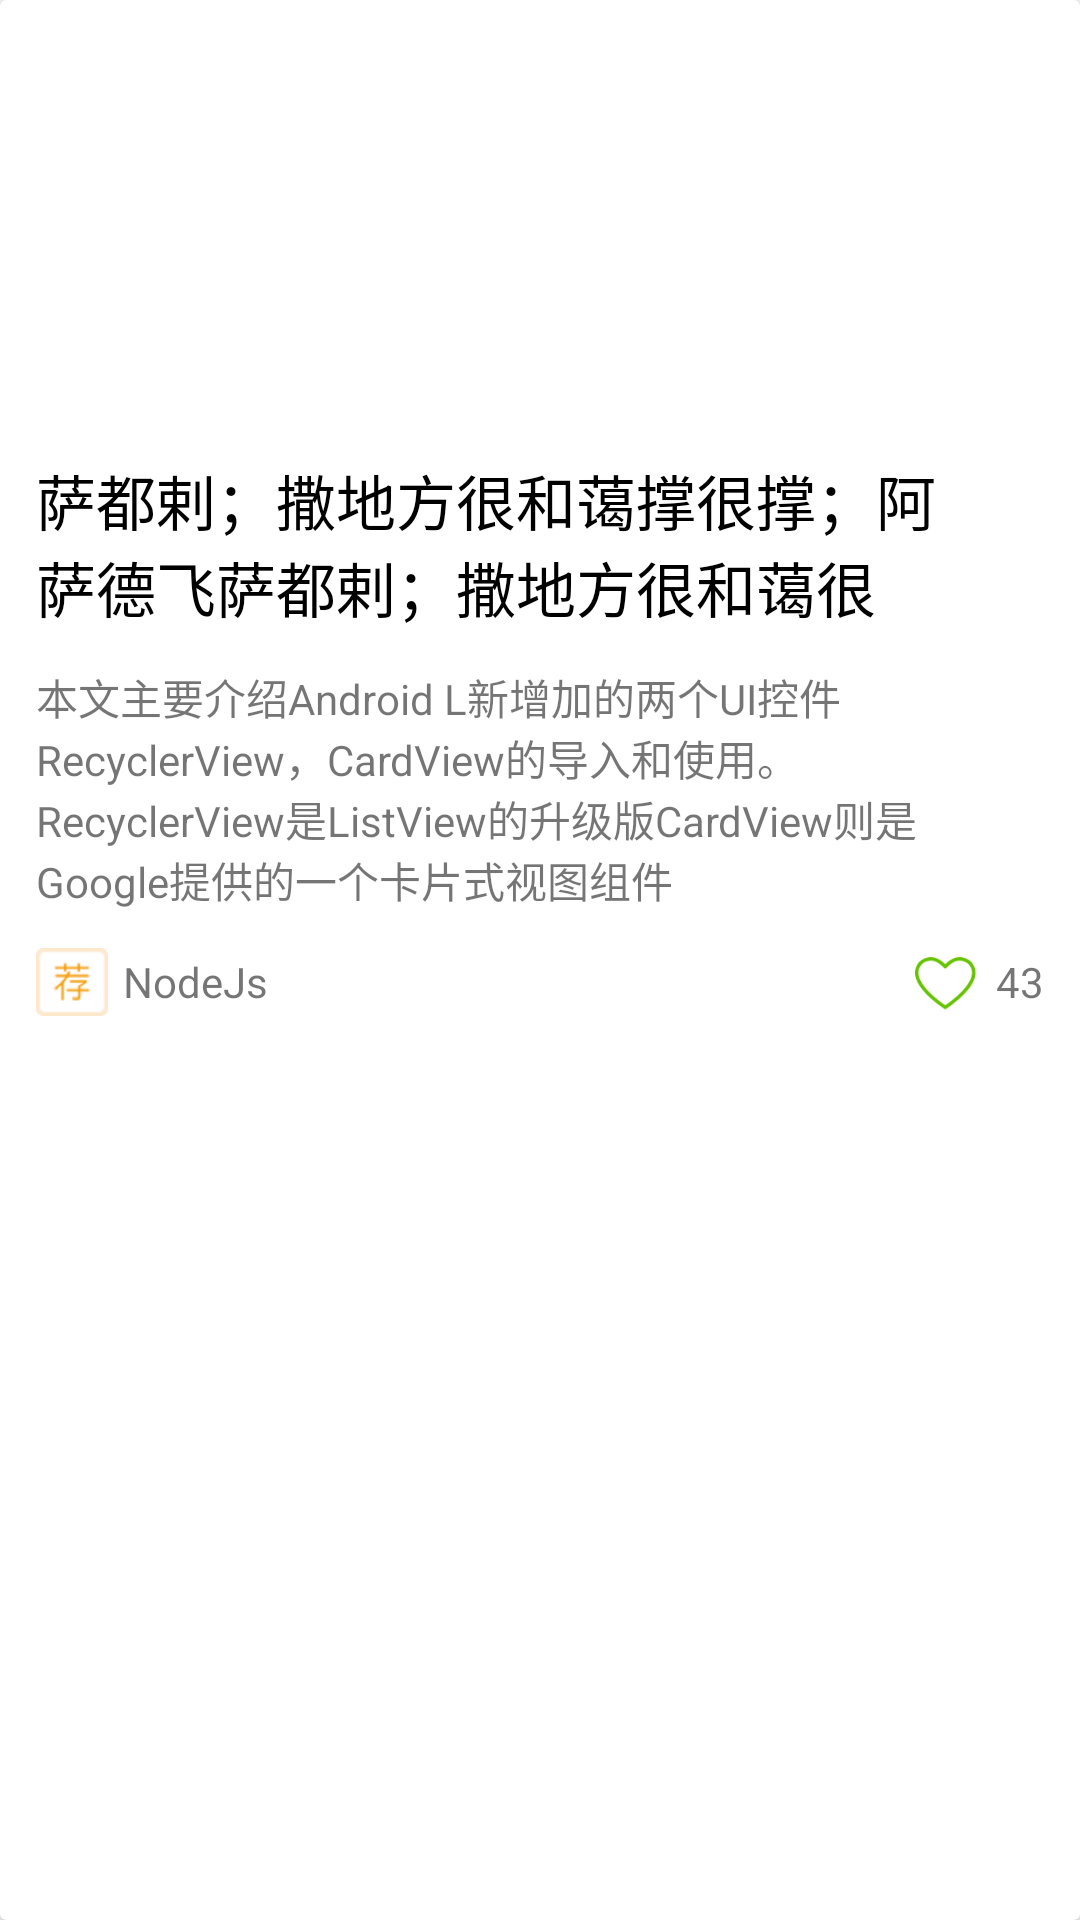

Named icons in this screenshot (1080px×1920px) and their bounding boxes, bbox=[x1, y1, x2, y2]:
favorite: bbox=[915, 957, 976, 1010]
